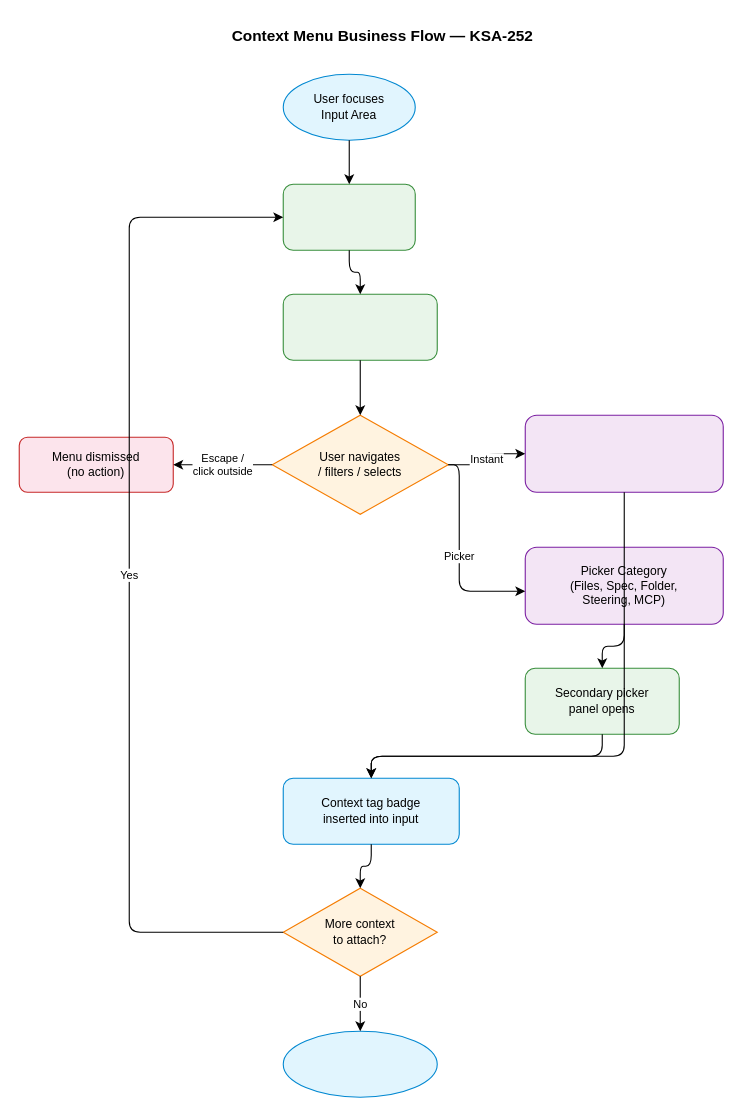
The diagram is 743 pixels wide and 1117 high, and some of its shapes have lost their labels. Here are the shapes that lost their labels. From the top down, the centre of each, then its label:
[348,216]: User types "#"
[359,326]: Context Menu appears (<100ms)
[623,453]: Instant Category (Git Diff, Terminal, Problems, Current File)
[359,1063]: User submits message with context tags
